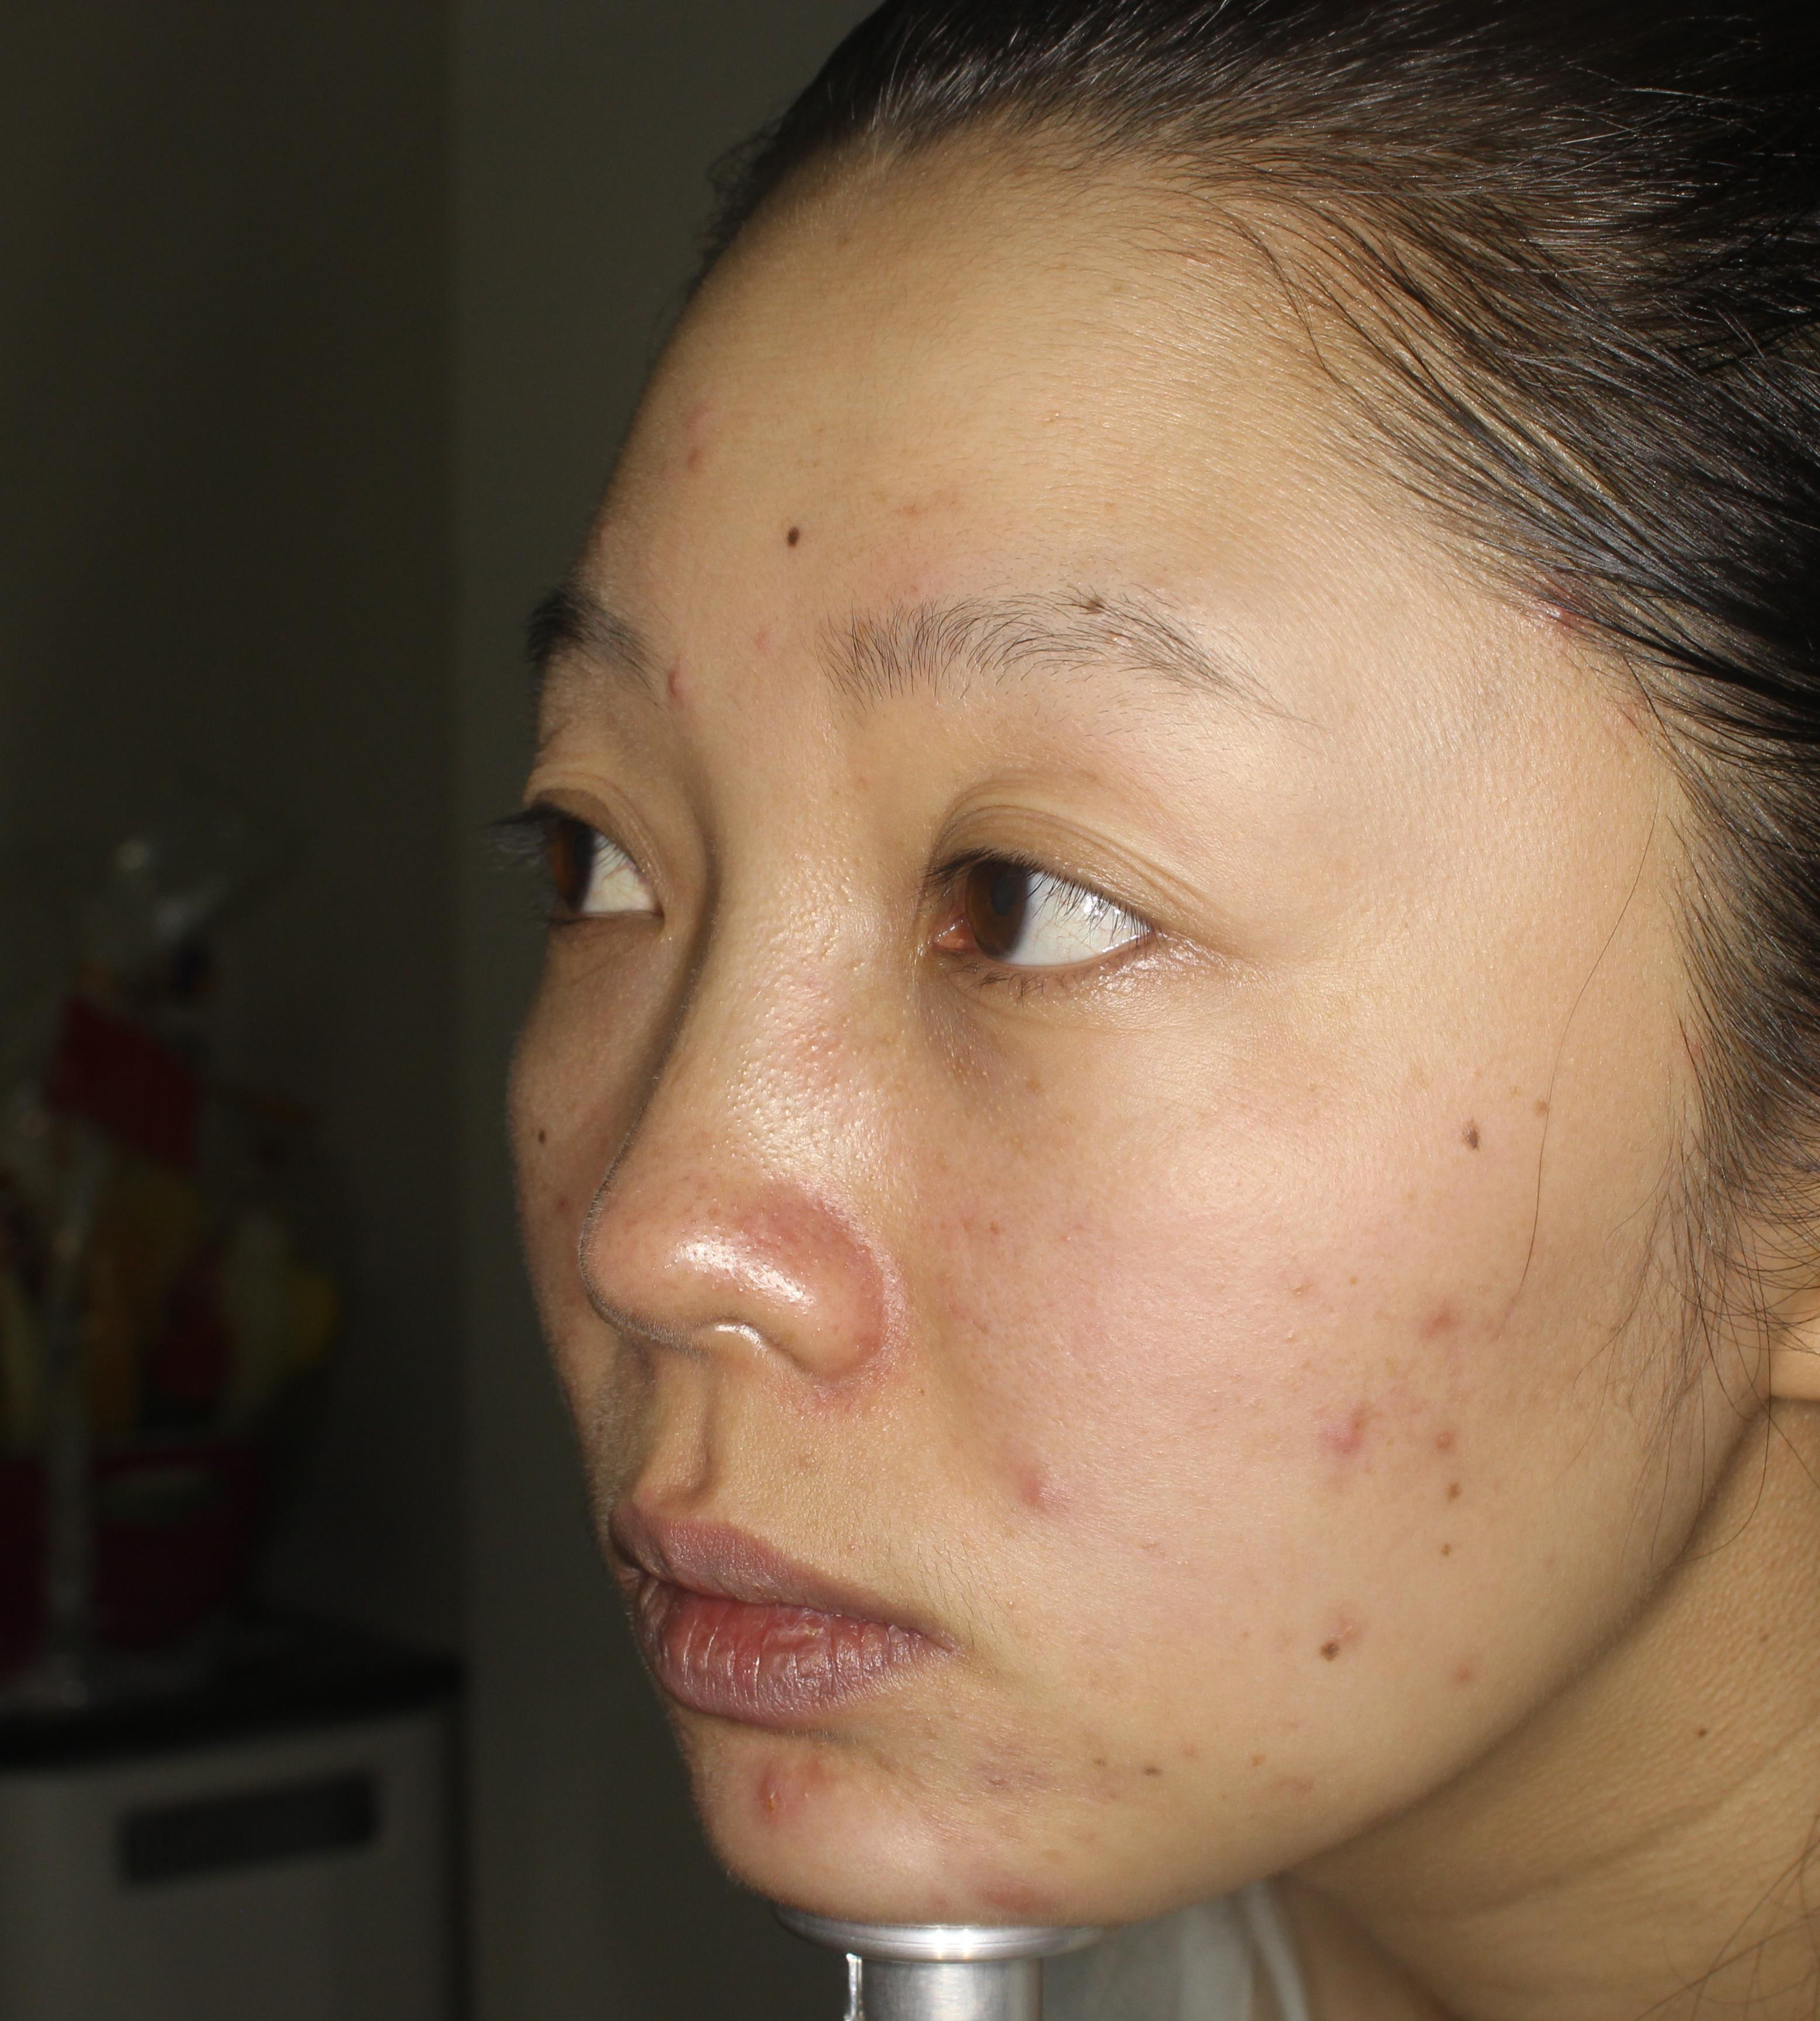fore: (727, 1737, 820, 1835), (964, 1845, 1072, 1921), (987, 1447, 1068, 1545), (1418, 1415, 1490, 1514), (1291, 1598, 1369, 1670), (964, 1737, 1045, 1805), (1309, 1384, 1372, 1468), (646, 425, 750, 474), (1418, 1289, 1476, 1366)
